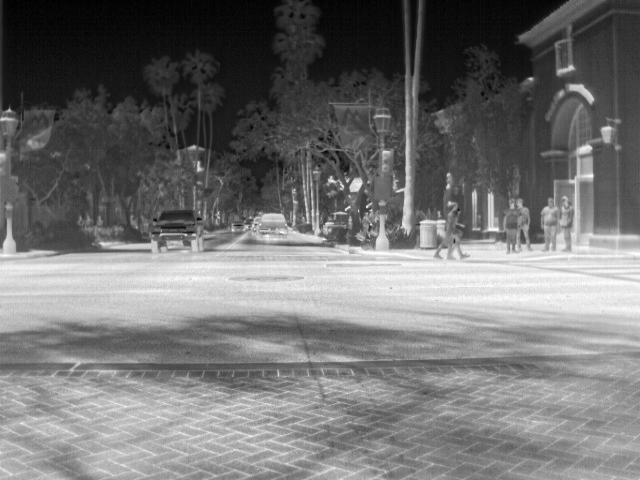car: (148, 210, 204, 255), (257, 212, 291, 242), (249, 213, 262, 238), (230, 220, 246, 232)
person: (433, 198, 470, 258), (516, 196, 535, 251), (541, 198, 561, 248), (560, 191, 576, 251), (506, 195, 521, 253), (452, 207, 468, 241), (360, 210, 375, 235), (83, 213, 95, 228), (75, 213, 87, 227), (94, 214, 106, 227)
